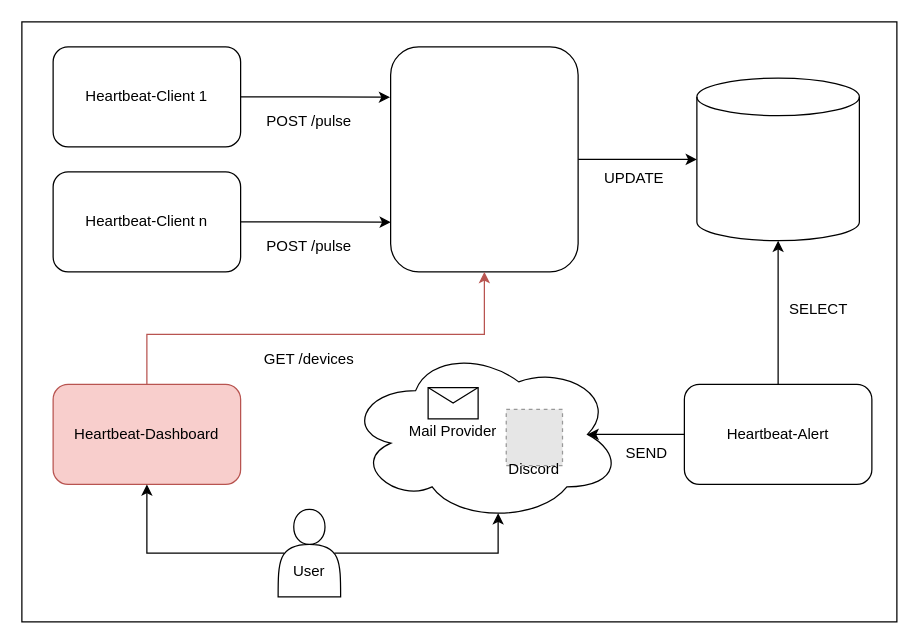
Some shapes in this 919 by 644 pixel diagram are drawn without their labels. Grey dashed boxes stand in for pictures. The centre of each missing label's shape, as x and y in pixels:
"Heartbeat-Server" goes at point (483, 159).
"MariaDB" goes at point (777, 159).
